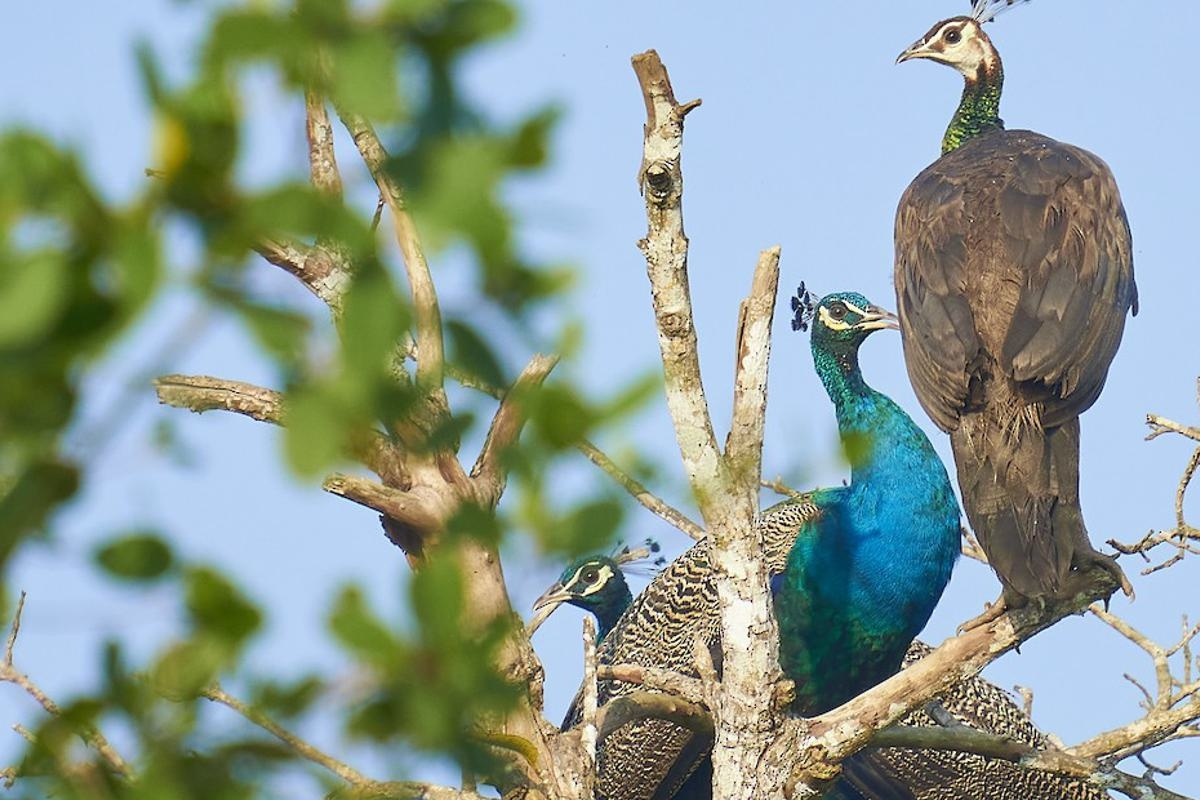peacock: (533, 271, 933, 800)
